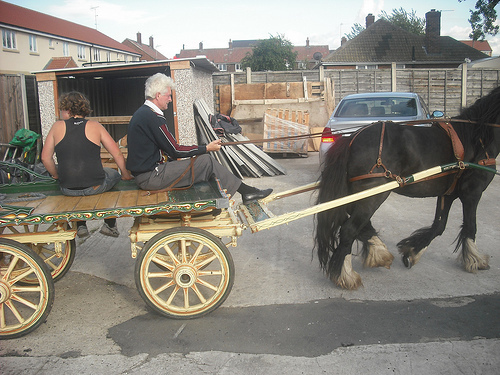horse: (311, 79, 500, 291)
